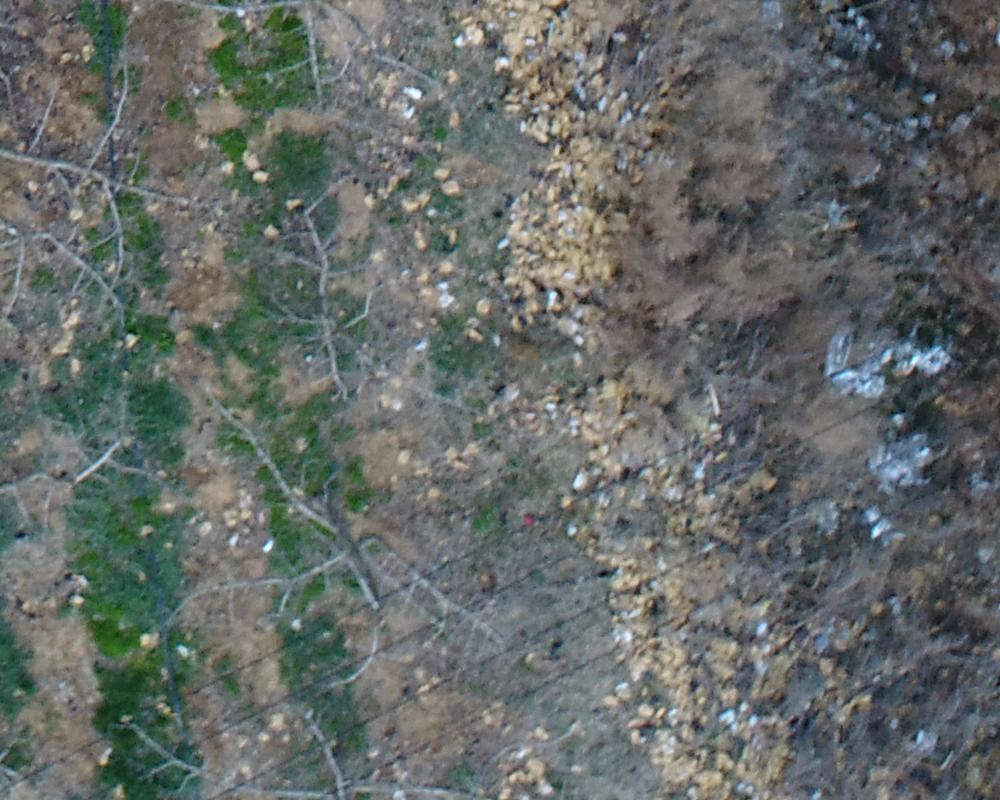apple: (206, 389, 525, 701), (10, 55, 199, 366), (219, 167, 428, 421), (113, 695, 590, 790), (121, 10, 487, 124)
